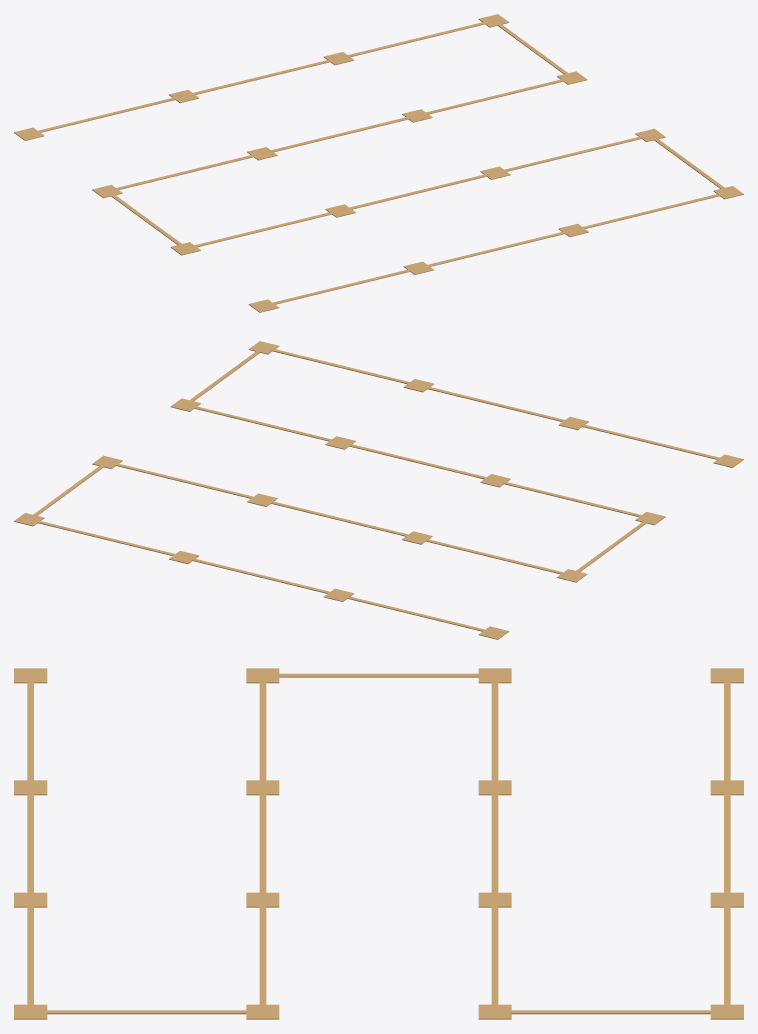
The model's file is board.glb.
The picture shows the model from 3 angles, top to bottom: view 1: azimuth 30°, elevation 25°; view 2: azimuth 150°, elevation 25°; view 3: azimuth 270°, elevation 25°; orthographic projection. The views are drawn at different scales.
Parts seen in each view (by area): view 1: Unified_Net_1_Contour_0; view 2: Unified_Net_1_Contour_0; view 3: Unified_Net_1_Contour_0.
Boxes of the visible parts, bbox=[...] form: Unified_Net_1_Contour_0: bbox=[14, 14, 743, 312]; Unified_Net_1_Contour_0: bbox=[14, 341, 743, 639]; Unified_Net_1_Contour_0: bbox=[14, 668, 743, 1019].
Bounding box in the file's own units: 0.025 × 3.5e-05 × 0.022.
